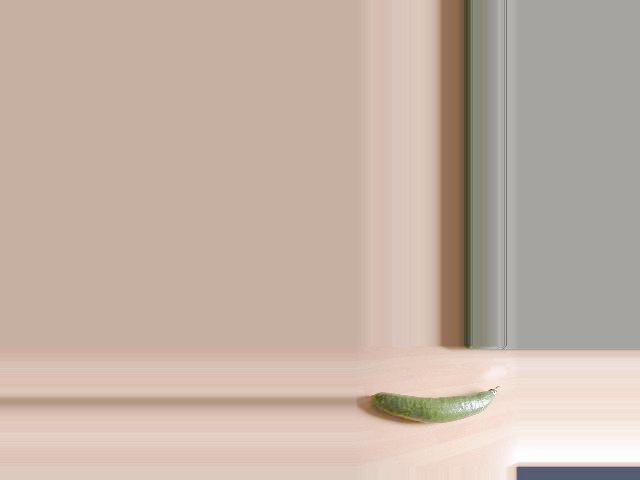cucumber: (369, 386, 500, 424)
